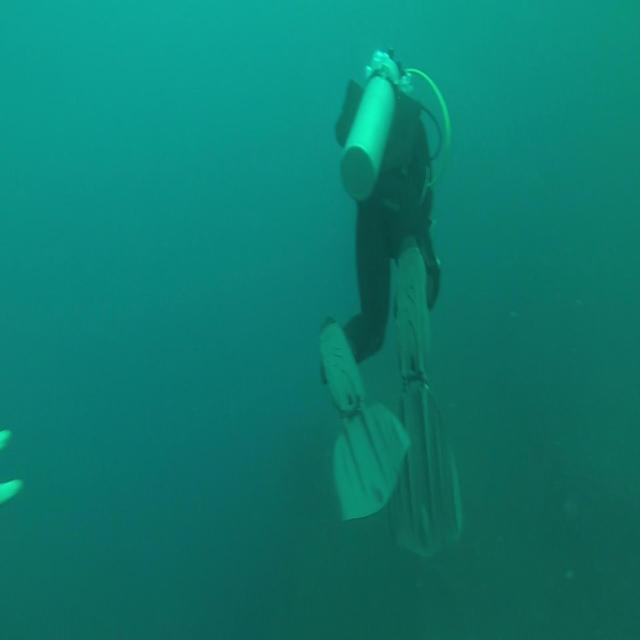human: (318, 46, 464, 559)
